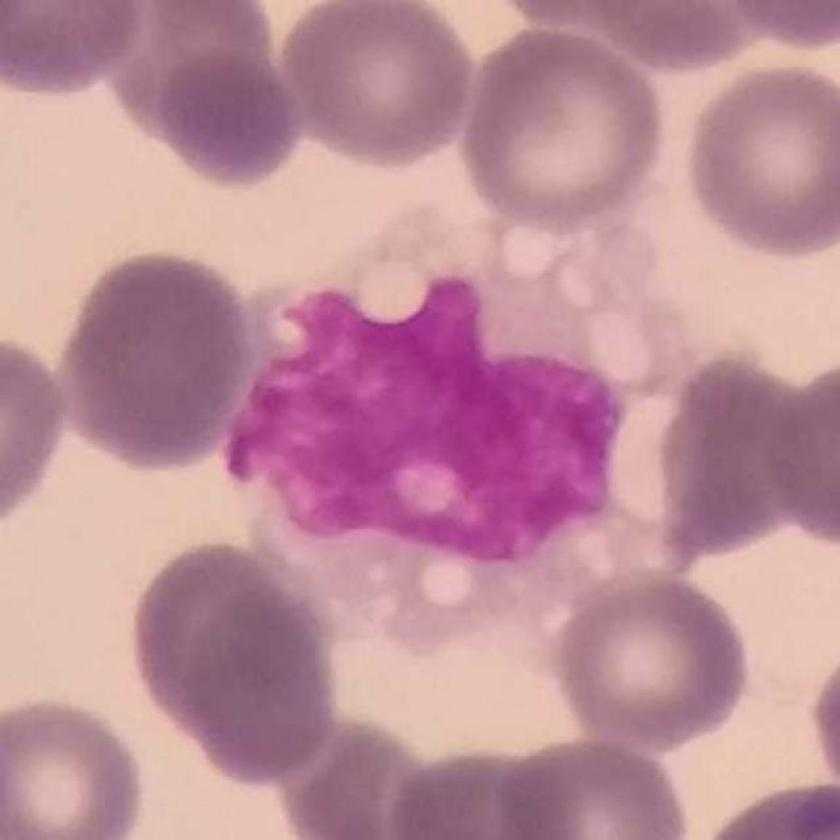monocyte: (219, 186, 720, 663)
